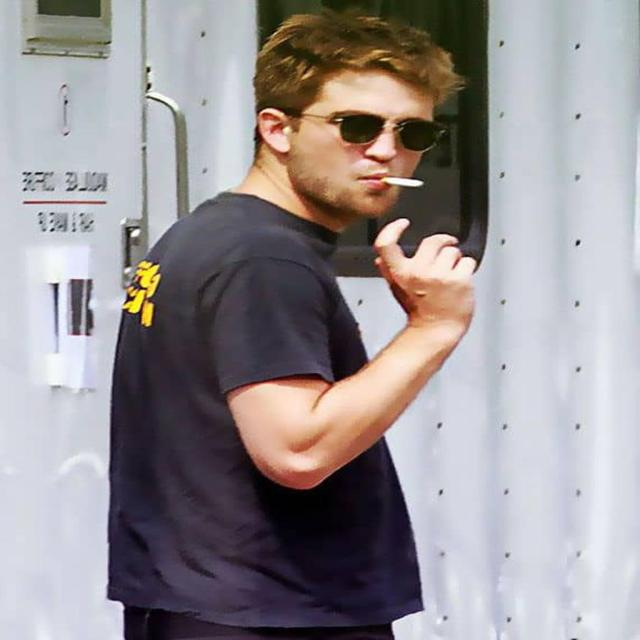smoking: (252, 22, 468, 220)
